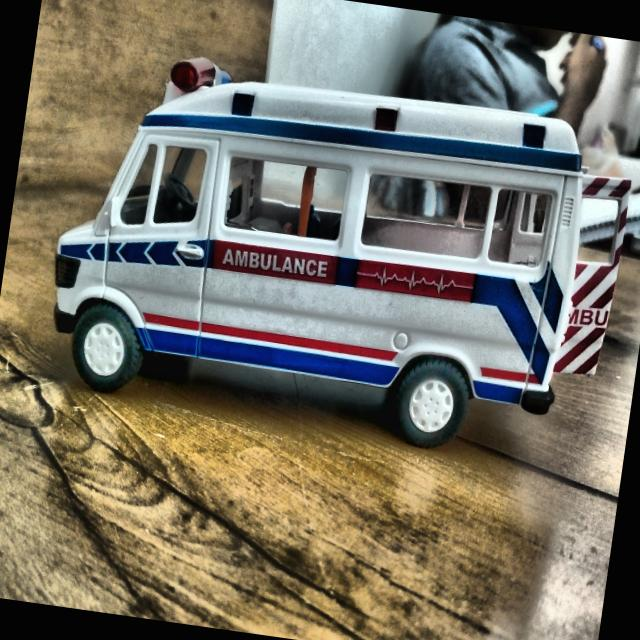Ambulance: (31, 35, 640, 476)
